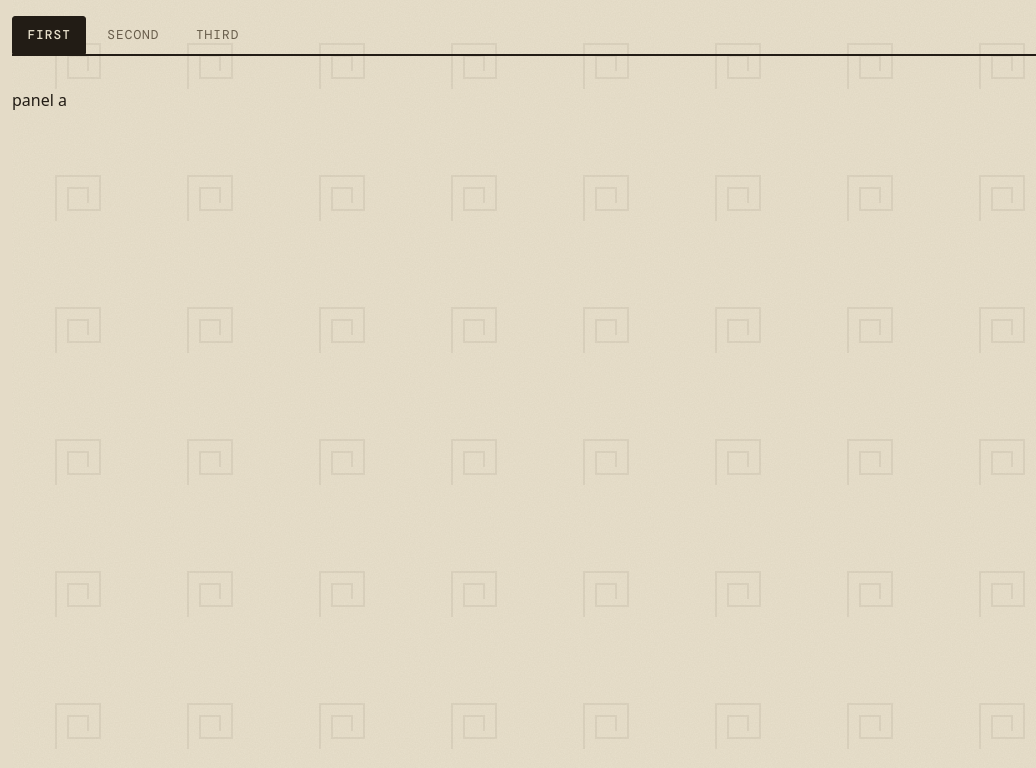
Test case: Tabs › switches on click and with the arrow, Home and End keys (roving tabindex)
Later steps or results of the test are not shown.
Click the tab "Second" at (133, 35), box [92, 16, 175, 54]
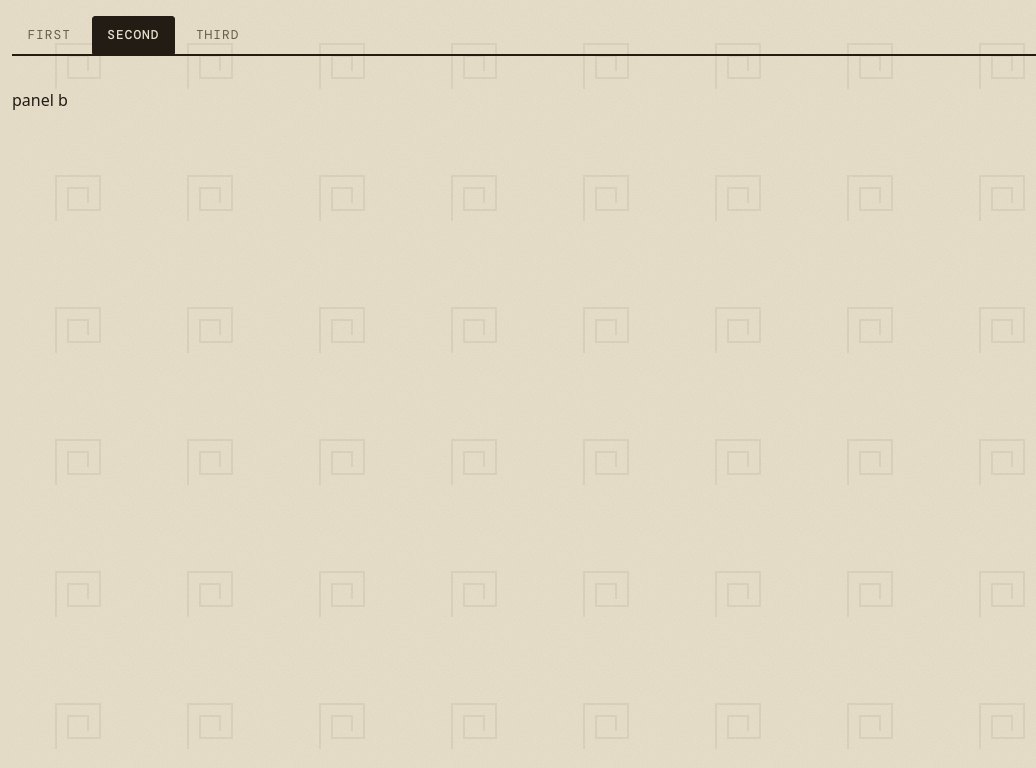
Expected: the tab "Second" has attribute tabindex="0"
Expected: the tab "First" has attribute tabindex="-1", [12, 16, 86, 54]
Press ArrowRight in the tab "Second", box [92, 16, 175, 54]
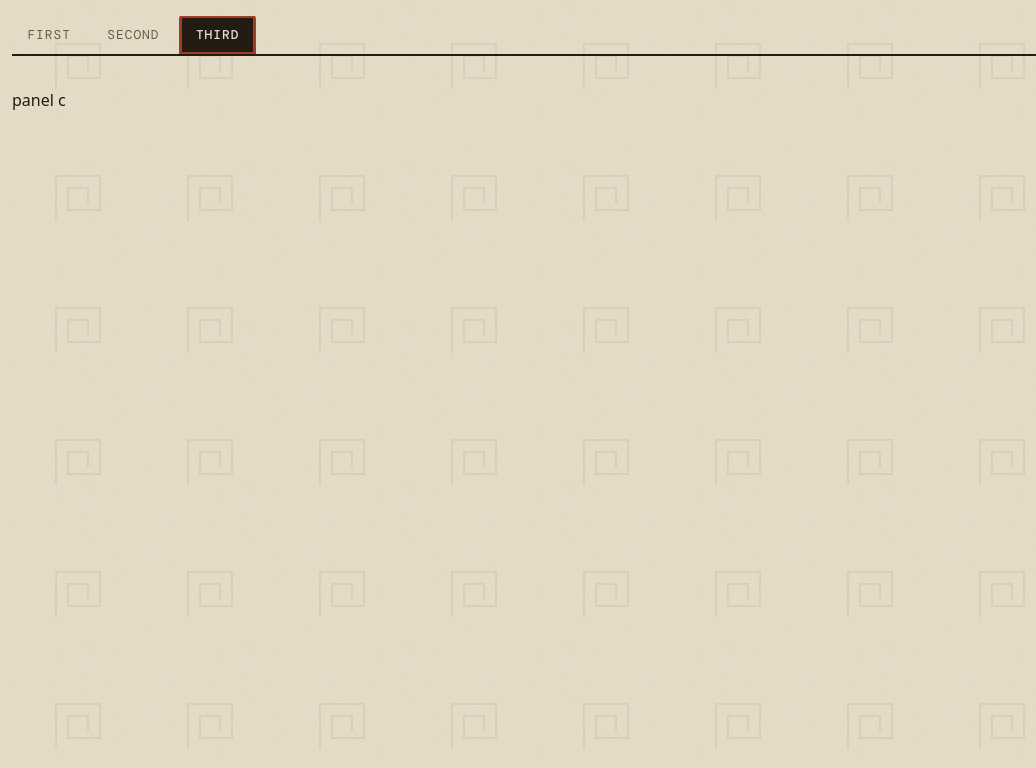
Press ArrowRight in the tab "Third", box [180, 16, 255, 54]
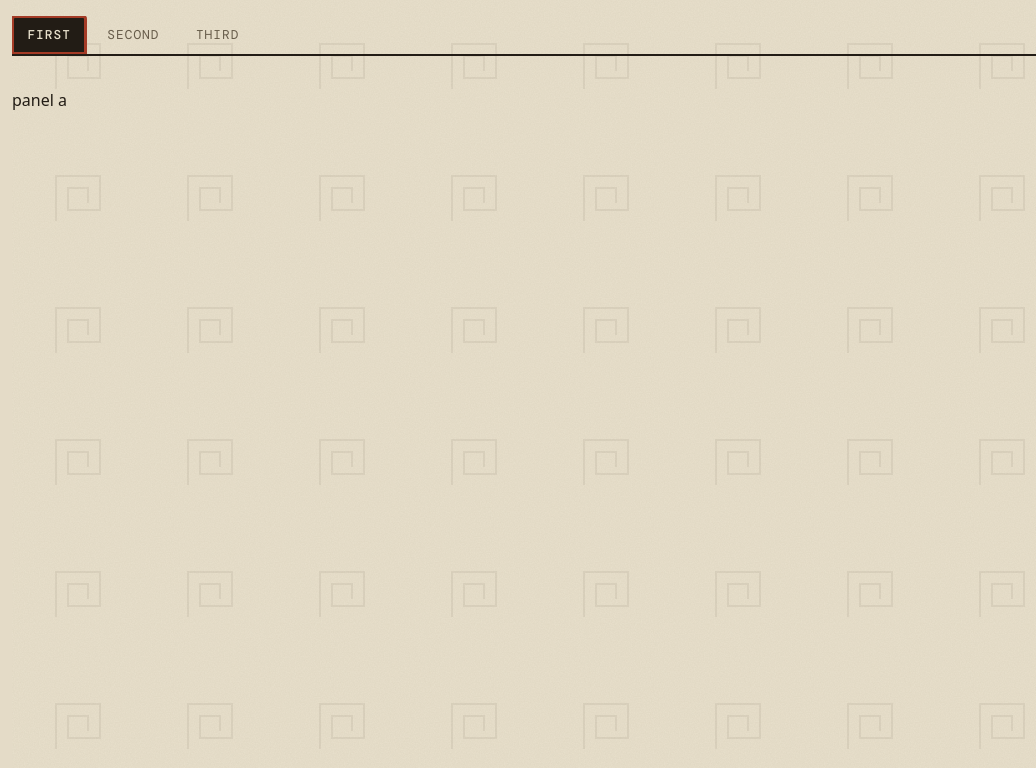
Expected: the tab "First" is selected
Press ArrowLeft in the tab "First", box [12, 16, 86, 54]
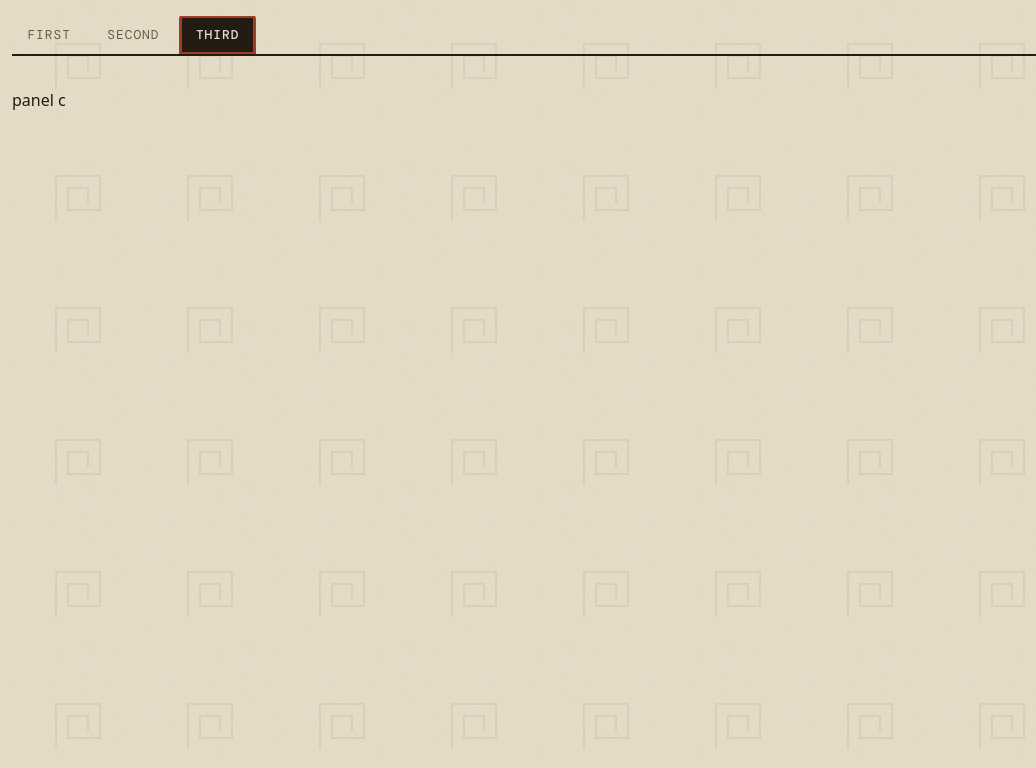
Expected: the tab "Third" is selected, [180, 16, 255, 54]
